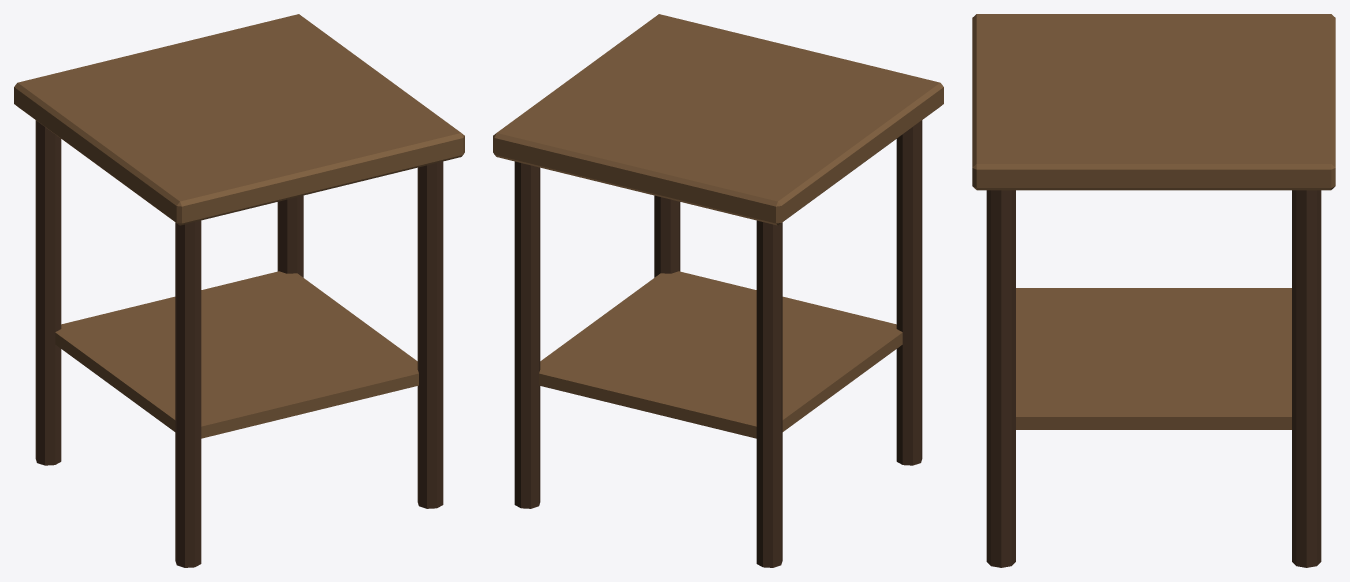
File: side_table.glb
3 renders of one model, left to right at view 1: azimuth 30°, elevation 25°; view 2: azimuth 150°, elevation 25°; view 3: azimuth 270°, elevation 25°, orthographic. The views are drawn at different scales.
Parts seen in each view (by area): view 1: side_table; view 2: side_table; view 3: side_table.
Boxes of the visible parts, left/top/right/bottom form: side_table: left=14, top=14, right=464, bottom=567; side_table: left=493, top=14, right=943, bottom=567; side_table: left=972, top=14, right=1335, bottom=567.
Size of the model in its own units: 0.5 by 0.62 by 0.5.
